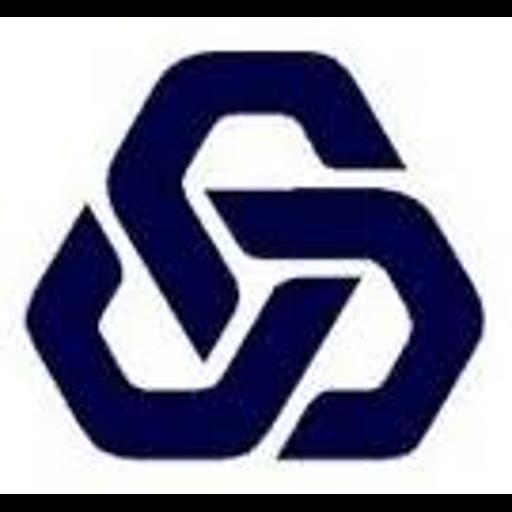Caixa Geral de Depositos: (0, 17, 512, 494)
